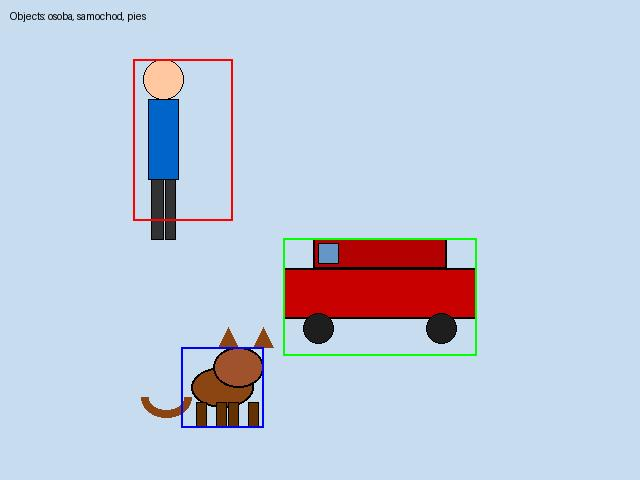osoba: (133, 59, 232, 220)
pies: (181, 347, 263, 427)
samochod: (283, 238, 476, 355)
